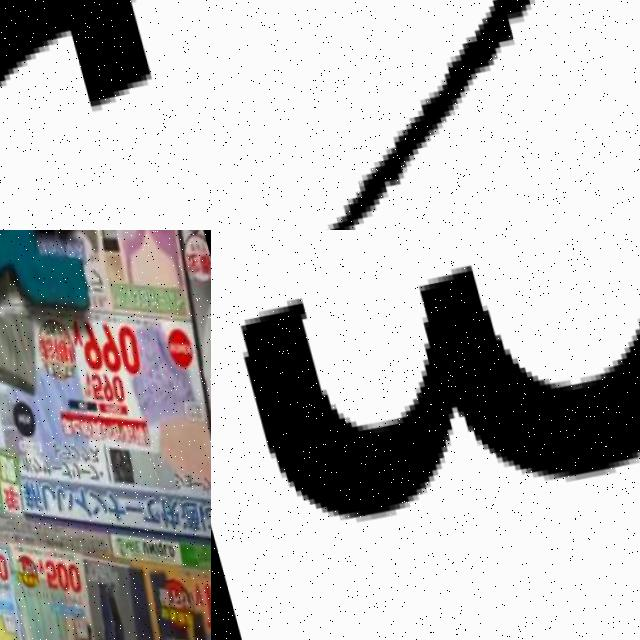3: (211, 230, 640, 548)
F: (0, 0, 211, 209)
K: (0, 230, 108, 331)
V: (321, 0, 530, 230)
